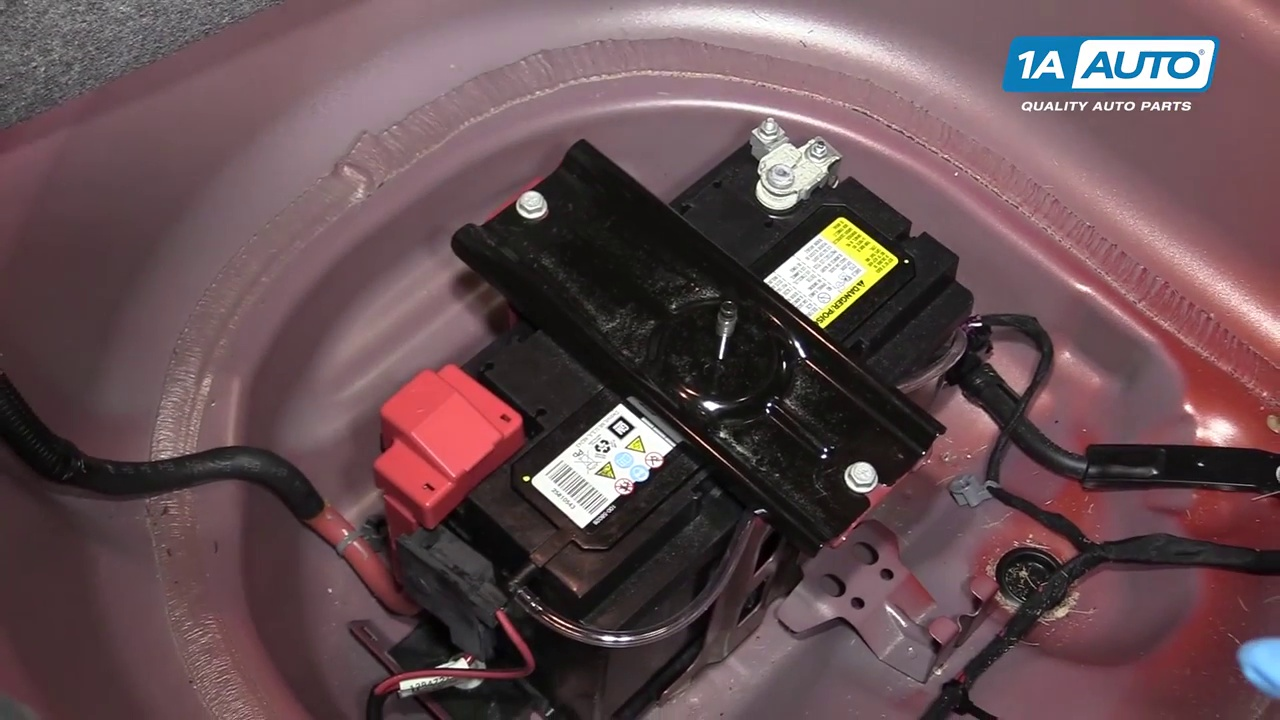battery: (389, 130, 962, 626)
neg_connected: (729, 105, 856, 220)
pos_connected: (350, 346, 539, 547)
